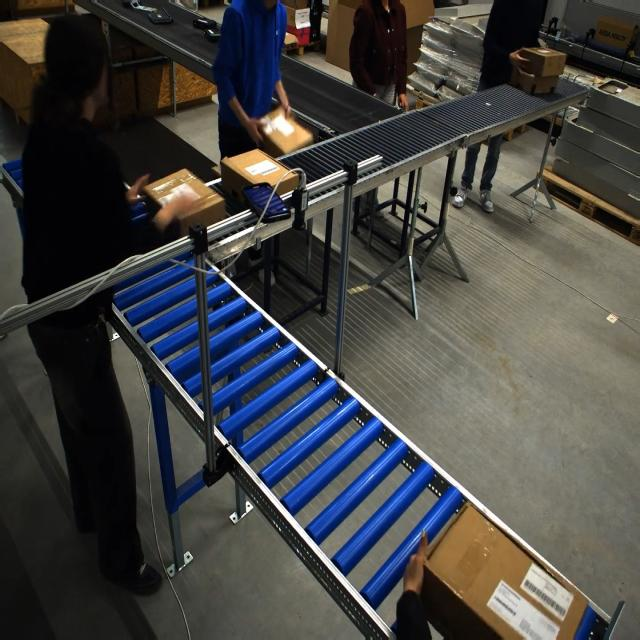box: (416, 500, 599, 640), (142, 169, 226, 235), (221, 148, 302, 204), (253, 106, 313, 159), (508, 46, 563, 95)
product: (190, 9, 216, 29), (126, 0, 157, 13), (149, 9, 174, 24), (203, 29, 221, 42), (123, 0, 137, 7)
